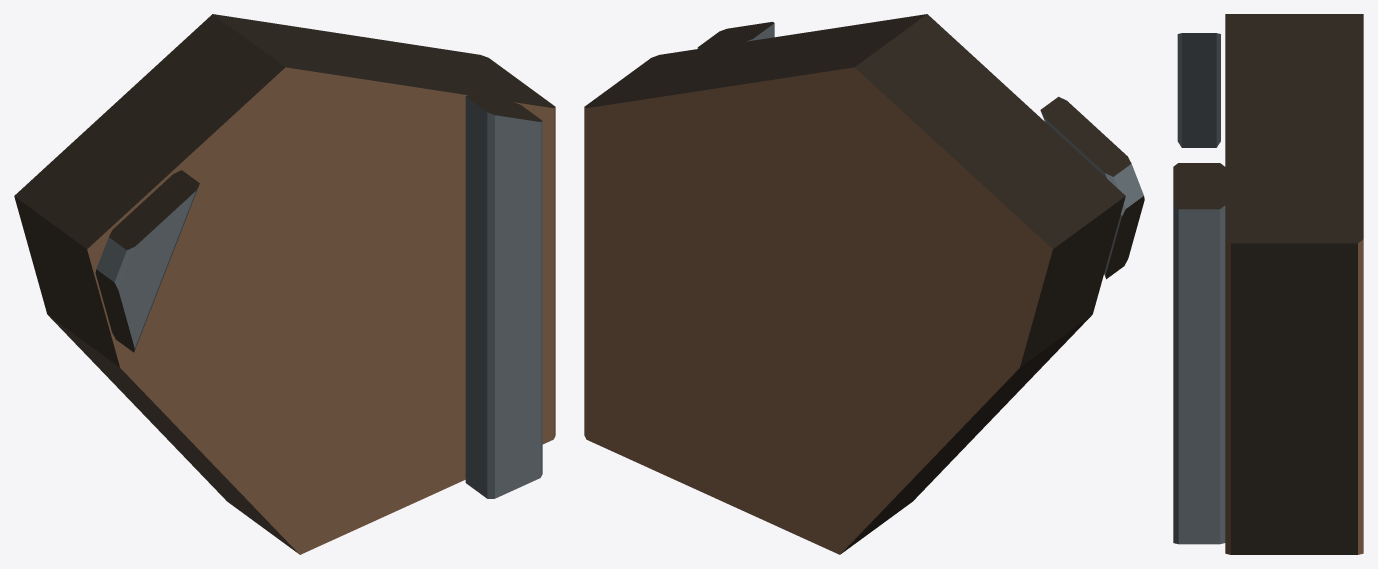
Rendered from SM_DoorShard_01_24.fbx.
3 renders of one model, left to right at view 1: azimuth 30°, elevation 25°; view 2: azimuth 150°, elevation 25°; view 3: azimuth 270°, elevation 25°, orthographic. The views are drawn at different scales.
Parts seen in each view (by area): view 1: SM_DoorShard_01_24; view 2: SM_DoorShard_01_24; view 3: SM_DoorShard_01_24.
Part boxes in pixels (left/top/right/bottom): SM_DoorShard_01_24: left=14, top=14, right=555, bottom=554; SM_DoorShard_01_24: left=584, top=14, right=1144, bottom=554; SM_DoorShard_01_24: left=1173, top=14, right=1363, bottom=554.
Bounding box in the file's own units: 59.74 × 22 × 59.45.
